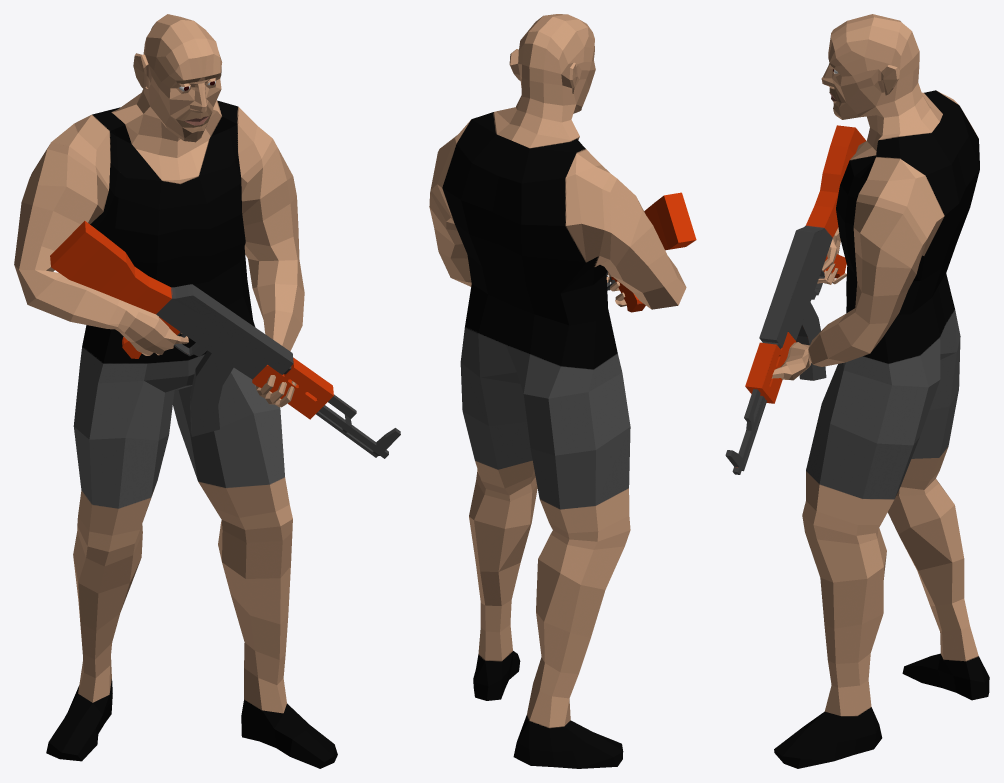
Rendered from PlayerIdle(218).obj.
3 views of the same model, side by side, from view 1: azimuth 30°, elevation 25°; view 2: azimuth 150°, elevation 25°; view 3: azimuth 270°, elevation 25° (orthographic). The views are drawn at different scales.
Visible parts, largest first — view 1: Plane002, Object001; view 2: Plane002, Object001; view 3: Plane002, Object001.
Part boxes in pixels (x1=…): Plane002: x1=14, y1=14, x2=337, y2=768; Object001: x1=50, y1=221, x2=400, y2=458; Plane002: x1=429, y1=14, x2=686, y2=768; Object001: x1=606, y1=192, x2=696, y2=312; Plane002: x1=771, y1=14, x2=989, y2=768; Object001: x1=725, y1=125, x2=866, y2=474.
Size of the model in its own units: 745 by 1801 by 618.
